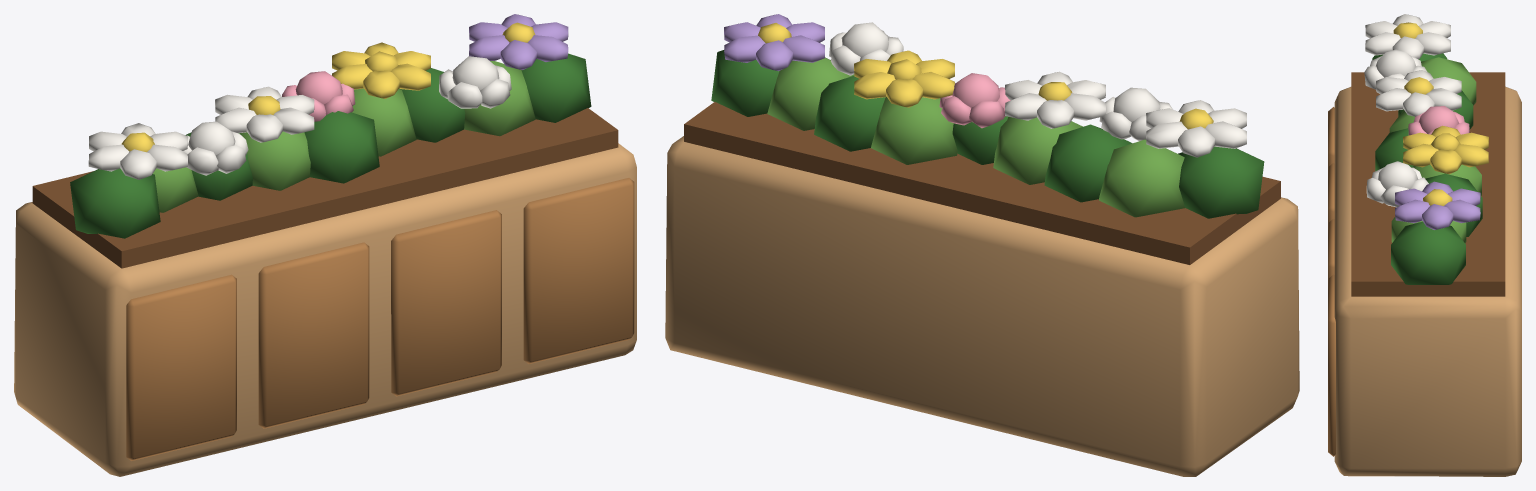
The model's file is floreira.glb.
3 views of the same model, side by side, from view 1: azimuth 30°, elevation 25°; view 2: azimuth 150°, elevation 25°; view 3: azimuth 270°, elevation 25° (orthographic). The views are drawn at different scales.
Visible parts, largest first — view 1: Floreira; view 2: Floreira; view 3: Floreira.
Part boxes in pixels (x1=…): Floreira: x1=14, y1=14, x2=636, y2=476; Floreira: x1=665, y1=14, x2=1299, y2=476; Floreira: x1=1328, y1=14, x2=1521, y2=476.
Size of the model in its own units: 0.96 by 0.5295 by 0.352.
